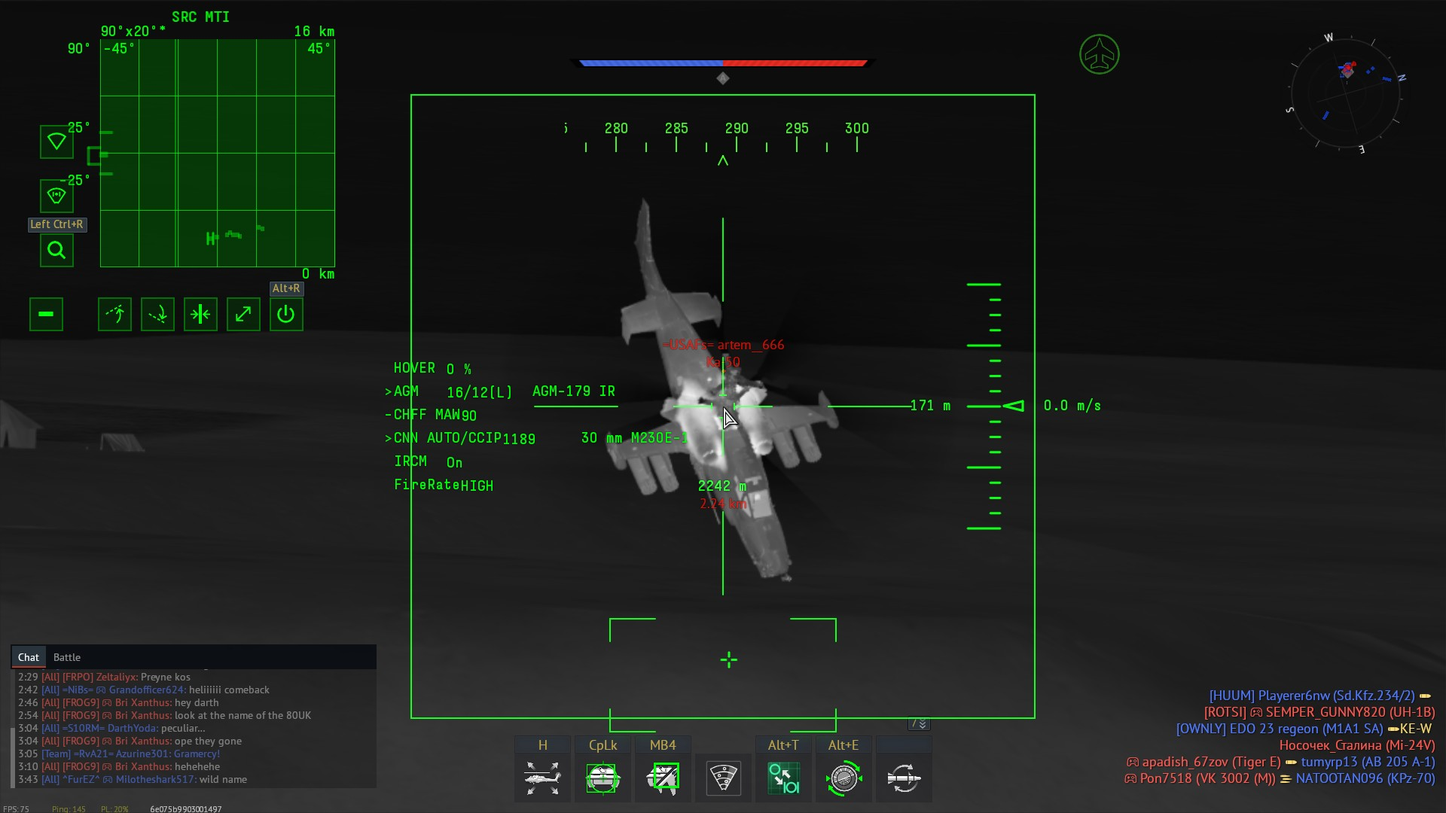ka50: (603, 200, 841, 582)
